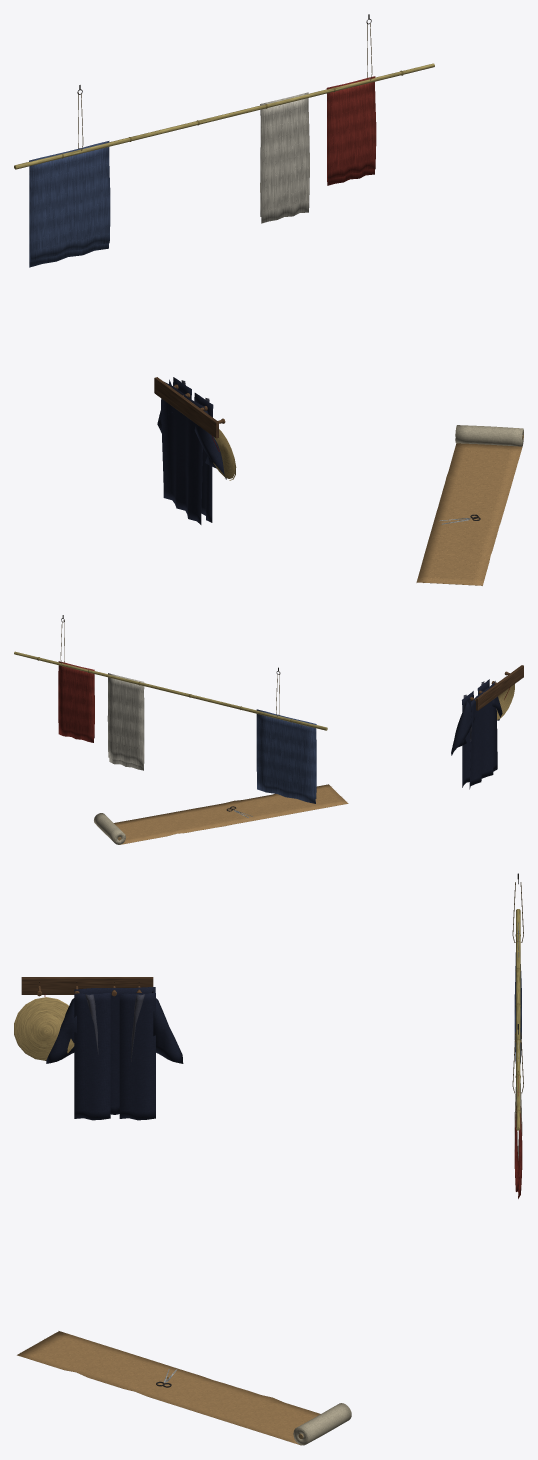
The model's file is upper-cloth-v2.glb.
3 renders of one model, top to bottom at view 1: azimuth 30°, elevation 25°; view 2: azimuth 150°, elevation 25°; view 3: azimuth 270°, elevation 25°, orthographic. The views are drawn at different scales.
Parts seen in each view (by area): view 1: Bolt_unrolled, Laundry_fold_0, Laundry_fold_1, Laundry_fold_2, Haori_back, UD_DryingPole_Cloths_v2, UD_CoatRail_Haori_v2, Bolt_cotton_roll, Haori_frontL, Haori_sleeve_-1; view 2: Bolt_unrolled, Laundry_fold_0, Laundry_fold_1, Laundry_fold_2, Haori_back, UD_DryingPole_Cloths_v2, UD_CoatRail_Haori_v2, Haori_sleeve_1, Haori_frontR, Bolt_cotton_roll; view 3: Bolt_unrolled, Haori_frontL, UD_CoatRail_Haori_v2, Haori_frontR, Haori_back, UD_DryingPole_Cloths_v2, Bolt_cotton_roll, Haori_sleeve_1, Haori_sleeve_-1.
Part boxes in pixels (box(x1,y1,x2,y2)): Bolt_unrolled: box(416, 443, 522, 585); Laundry_fold_0: box(29, 141, 110, 267); Laundry_fold_1: box(260, 92, 309, 223); Laundry_fold_2: box(326, 76, 376, 185); Haori_back: box(161, 382, 204, 524); UD_DryingPole_Cloths_v2: box(14, 14, 434, 169); UD_CoatRail_Haori_v2: box(154, 377, 236, 480); Bolt_cotton_roll: box(455, 425, 523, 446); Haori_frontL: box(194, 393, 213, 522); Haori_sleeve_-1: box(194, 410, 226, 479); Bolt_unrolled: box(114, 784, 348, 844); Laundry_fold_0: box(256, 709, 316, 803); Laundry_fold_1: box(107, 673, 144, 770); Laundry_fold_2: box(58, 661, 94, 742); Haori_back: box(469, 681, 497, 789); UD_DryingPole_Cloths_v2: box(14, 615, 327, 730); UD_CoatRail_Haori_v2: box(470, 665, 523, 719); Haori_sleeve_1: box(451, 700, 474, 755); Haori_frontR: box(462, 691, 473, 787); Bolt_cotton_roll: box(94, 813, 125, 844); Bolt_unrolled: box(17, 1331, 320, 1445); Haori_frontL: box(74, 993, 110, 1120); UD_CoatRail_Haori_v2: box(14, 977, 153, 1060); Haori_frontR: box(119, 993, 155, 1120); Haori_back: box(74, 987, 155, 1114); UD_DryingPole_Cloths_v2: box(512, 873, 523, 1130); Bolt_cotton_roll: box(293, 1403, 351, 1445); Haori_sleeve_1: box(152, 990, 183, 1063); Haori_sleeve_-1: box(46, 990, 76, 1063).
Bounding box in the file's own units: 3.12 × 2.45 × 2.87.
10 materials, 9 textured.
